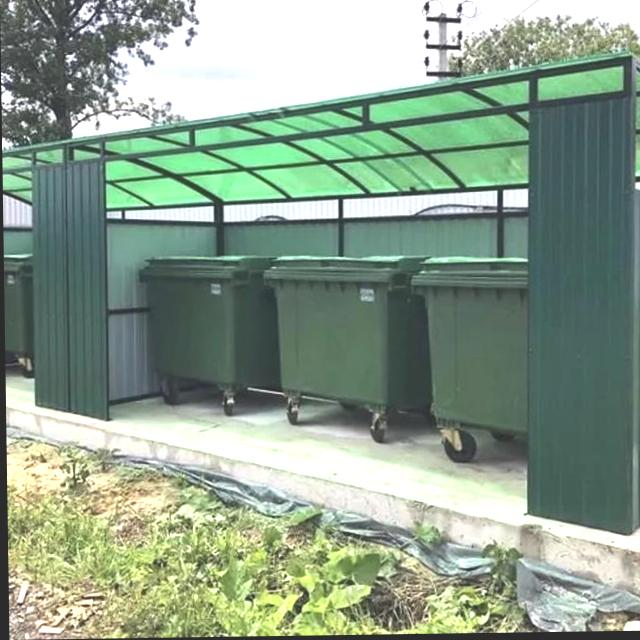Trash_Can_Closed: (263, 254, 431, 418), (409, 256, 530, 439), (137, 253, 280, 391)
